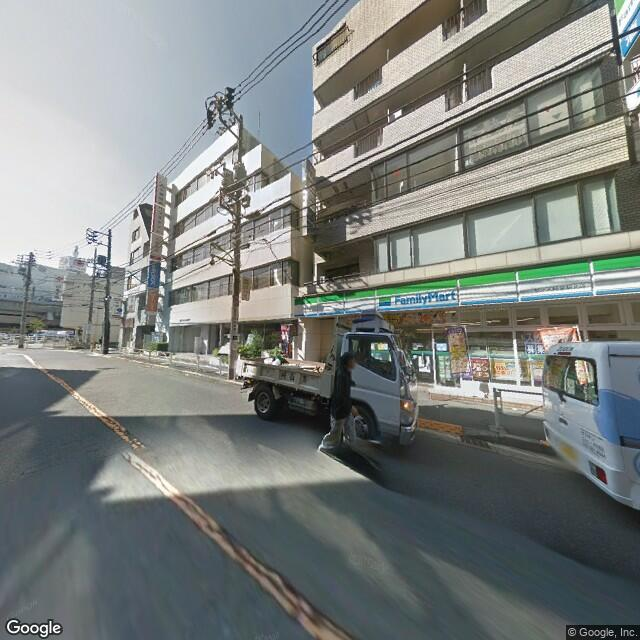family_mart: (295, 248, 639, 320), (375, 281, 458, 312)
